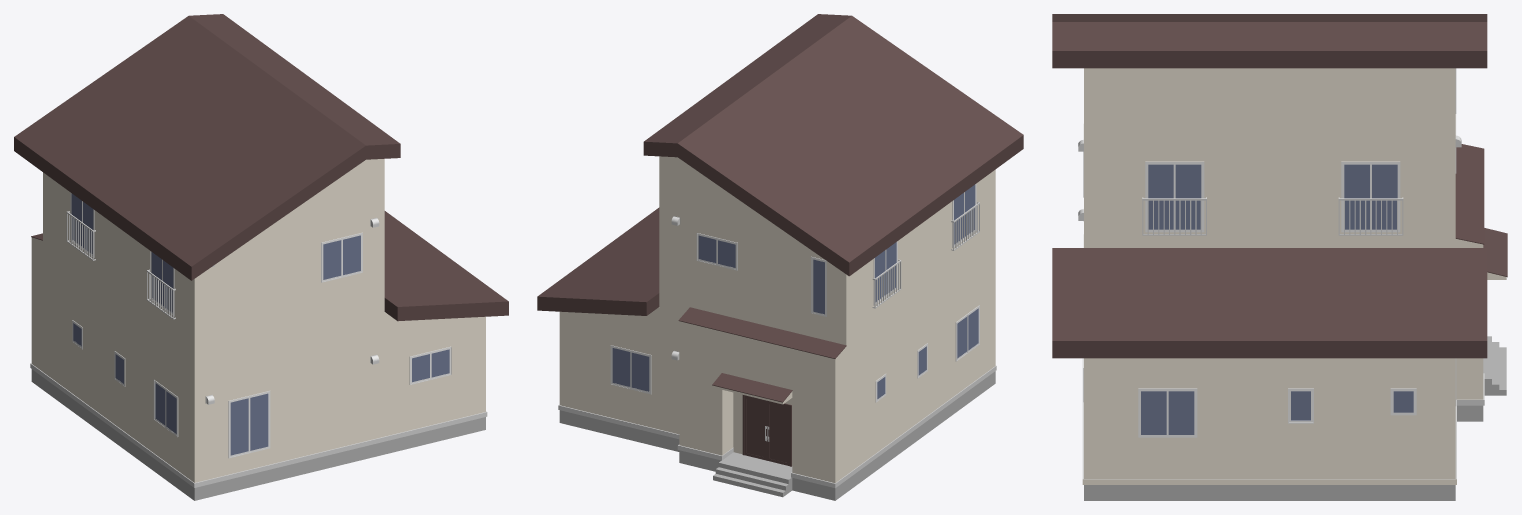
File: MobHouse27.fbx
The picture shows the model from 3 angles, left to right: view 1: azimuth 30°, elevation 25°; view 2: azimuth 150°, elevation 25°; view 3: azimuth 270°, elevation 25°; orthographic projection. The views are drawn at different scales.
Visible parts, largest first — view 1: Flat_half_house01.027; view 2: Flat_half_house01.027; view 3: Flat_half_house01.027.
Part boxes in pixels (left/top/right/bottom): Flat_half_house01.027: left=14, top=14, right=508, bottom=500; Flat_half_house01.027: left=537, top=14, right=1023, bottom=500; Flat_half_house01.027: left=1052, top=14, right=1507, bottom=500.
Size of the model in its own units: 9.9 by 9.72 by 10.03.
